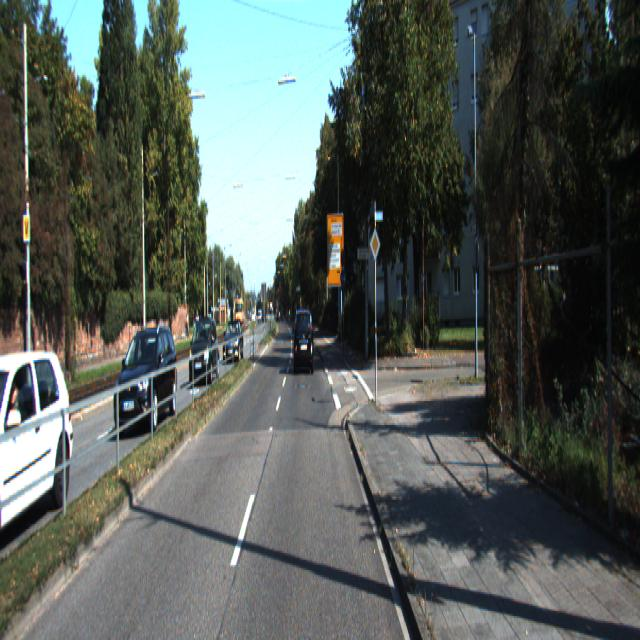Car: (0, 338, 76, 554), (114, 326, 178, 443), (188, 314, 220, 386), (294, 306, 315, 374), (222, 321, 245, 365)
DontCare: (276, 306, 282, 322), (257, 307, 263, 322)
